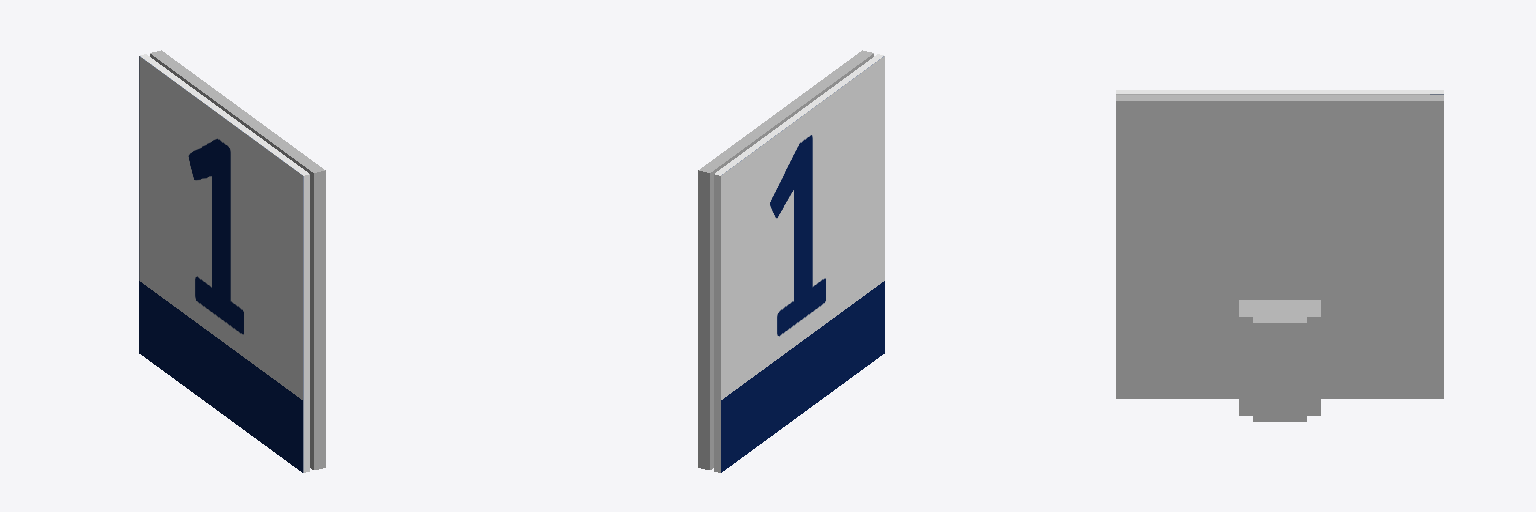
3 views of the same model, side by side, from view 1: azimuth 30°, elevation 25°; view 2: azimuth 150°, elevation 25°; view 3: azimuth 270°, elevation 25° (orthographic).
Visible parts, largest first — view 1: cube; view 2: cube; view 3: cube.
Boxes of the visible parts, x1=… form: cube: x1=139, y1=50, x2=325, y2=472; cube: x1=698, y1=50, x2=884, y2=472; cube: x1=1116, y1=90, x2=1443, y2=421.
Bounding box in the file's own units: 0.0922 × 0.375 × 0.375.
2 materials, 1 textured.